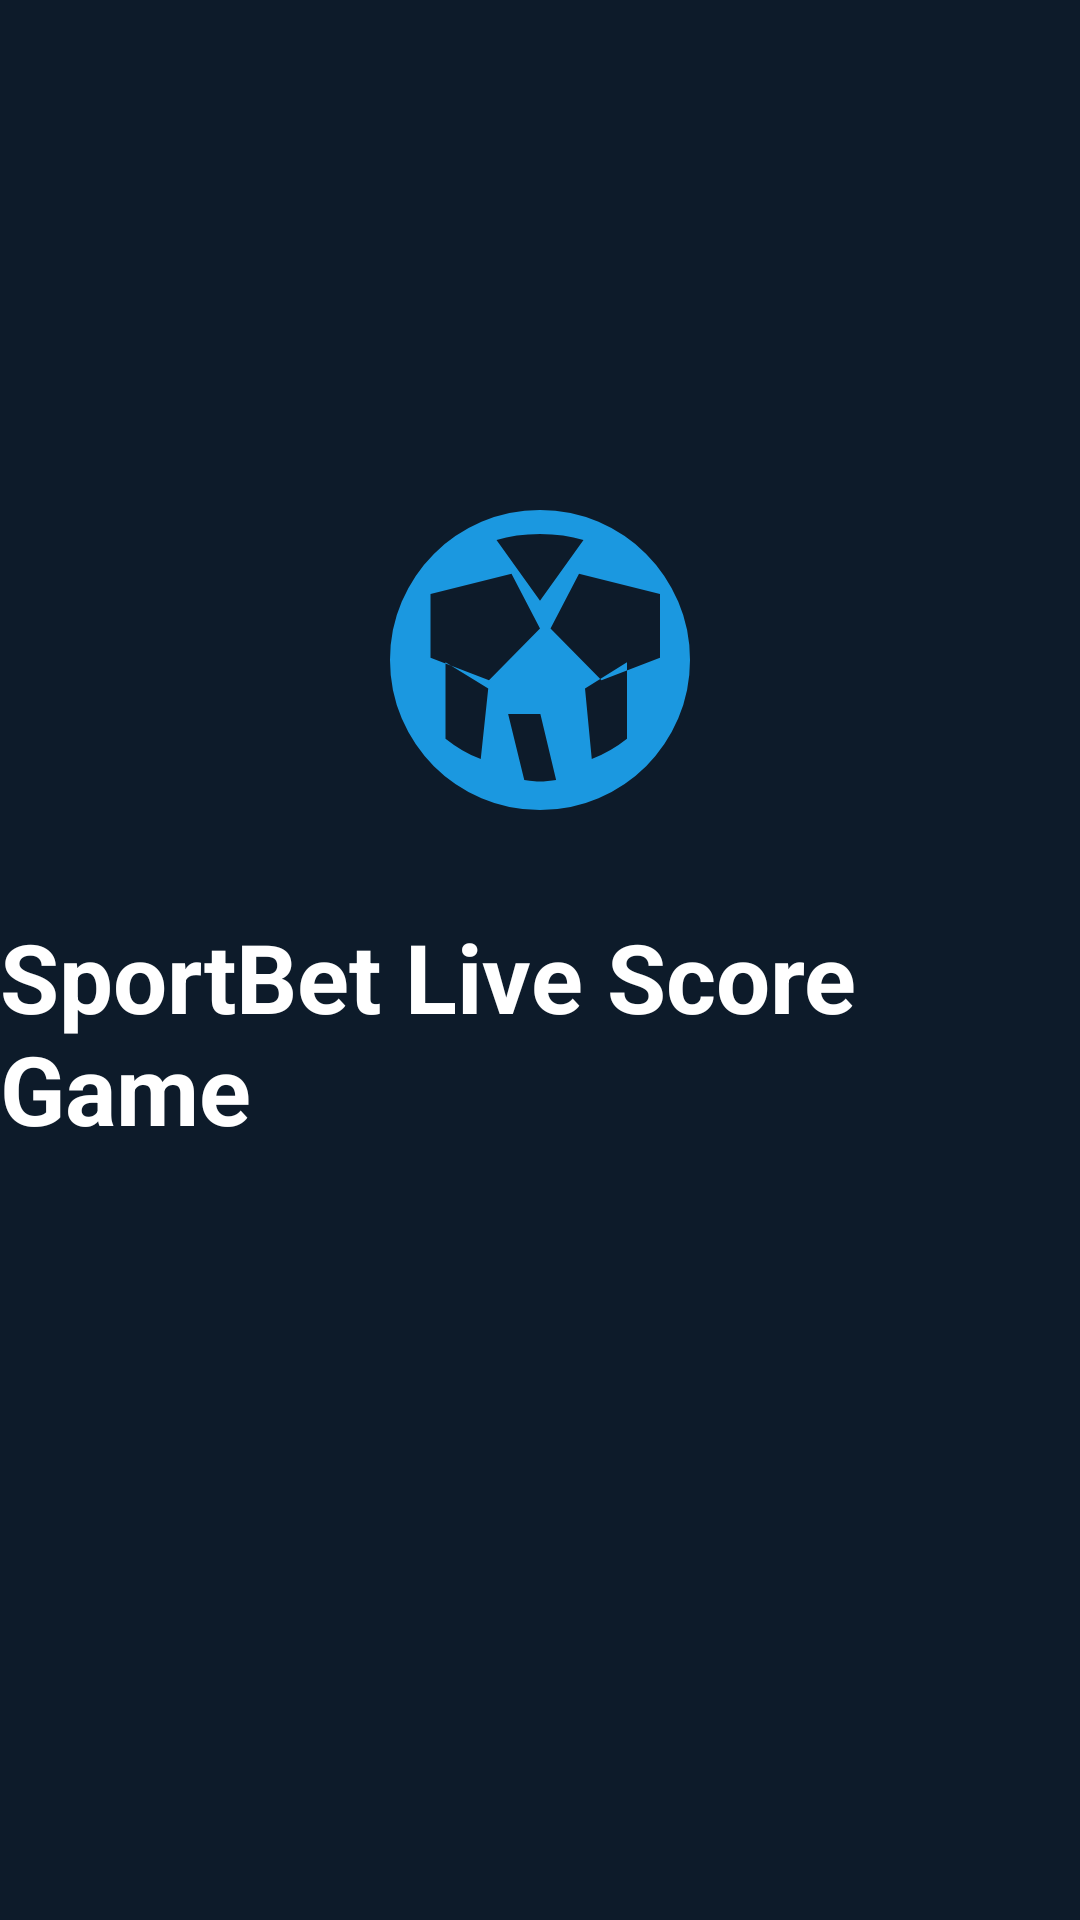

Screen size 1080 x 1920. Icon name, then its box in pixels as (x1, y1, x2, y2):
sport football: (390, 510, 690, 810)
